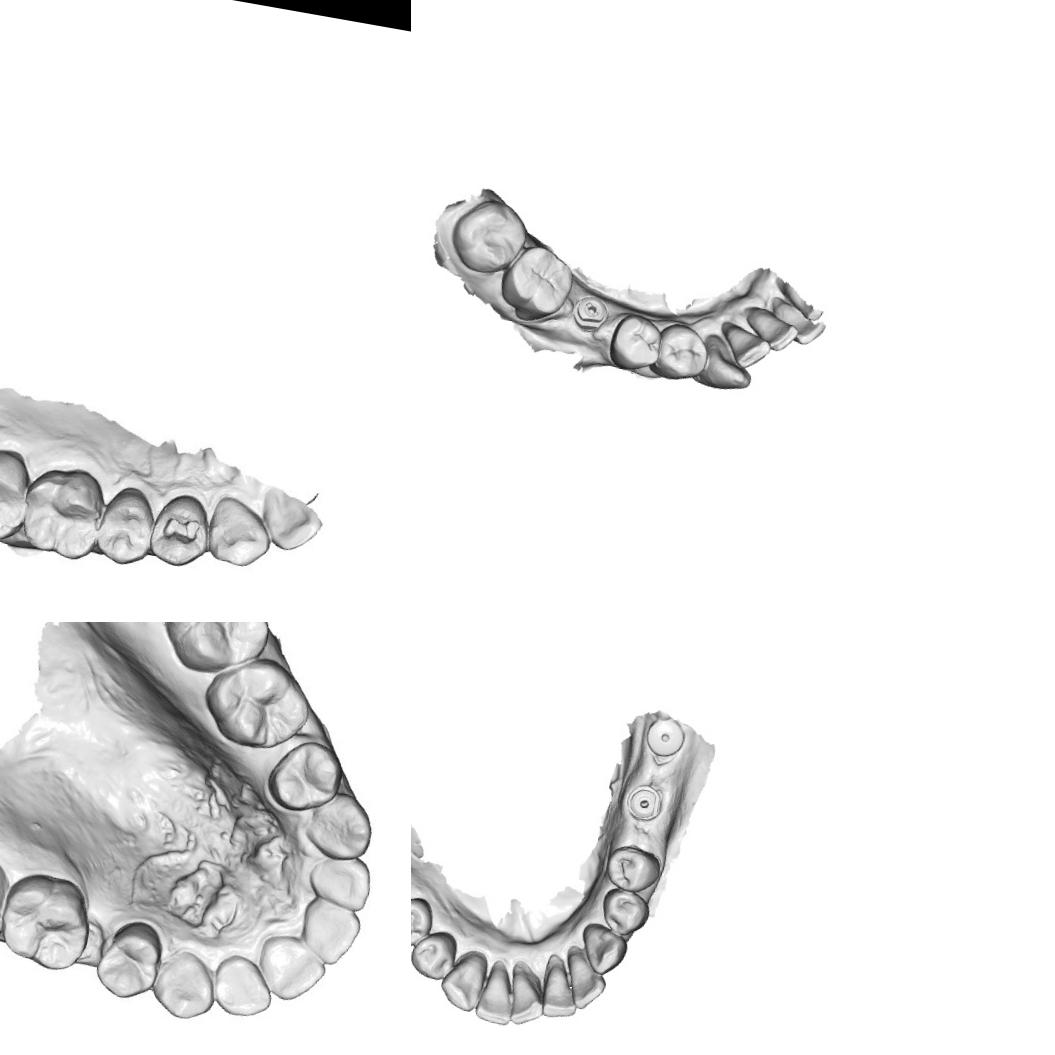canine: (201, 493, 278, 573), (148, 944, 216, 1022), (304, 793, 376, 860), (694, 331, 759, 396), (435, 946, 491, 1014), (574, 920, 632, 979)
implant: (640, 712, 689, 762), (623, 780, 665, 824)
implant_minus: (568, 290, 611, 334)
incisor: (204, 951, 280, 1023), (254, 484, 327, 558), (253, 932, 328, 1000), (301, 848, 376, 913), (297, 896, 364, 965), (556, 950, 610, 1013), (766, 298, 829, 348), (718, 319, 774, 374), (472, 962, 518, 1028), (502, 968, 550, 1029), (537, 961, 584, 1023), (744, 307, 801, 355)
inlay: (154, 505, 207, 554)
molar: (204, 654, 309, 756), (0, 867, 94, 975), (17, 461, 108, 564), (444, 192, 534, 282), (494, 238, 579, 330), (158, 622, 278, 681), (0, 441, 36, 550)
premolar: (262, 732, 348, 820), (88, 914, 166, 1004), (94, 482, 160, 570), (603, 307, 666, 376), (650, 320, 714, 385), (600, 839, 666, 897), (594, 884, 654, 941), (411, 924, 460, 984), (411, 889, 438, 951)
